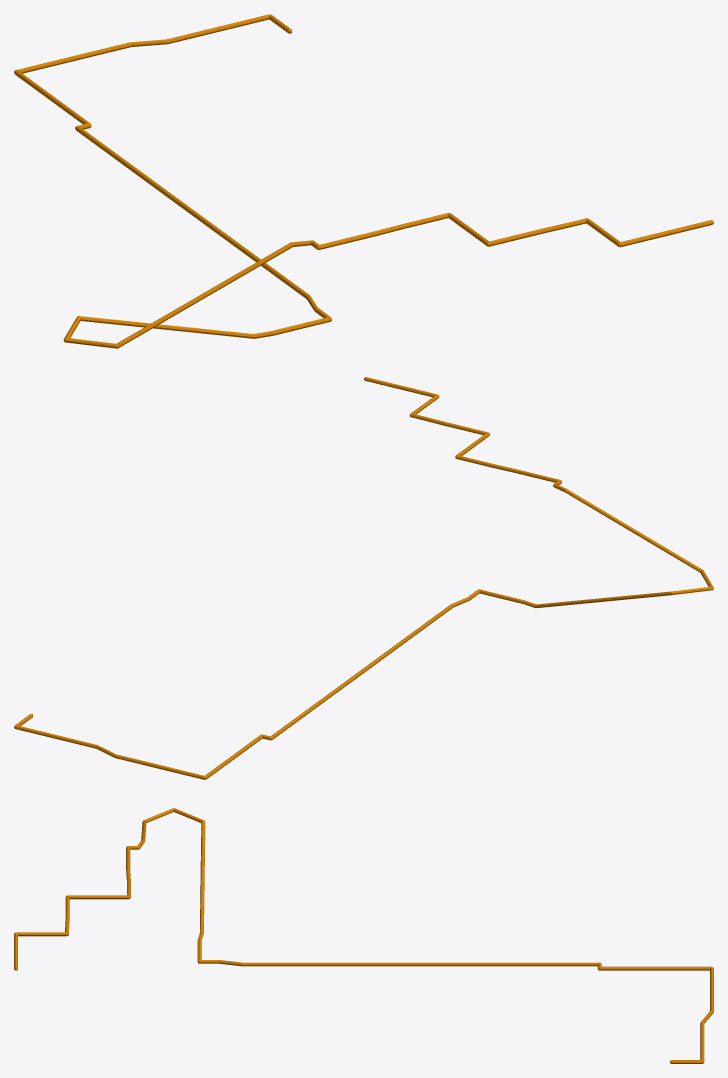
3 renders of one model, top to bottom at view 1: azimuth 30°, elevation 25°; view 2: azimuth 150°, elevation 25°; view 3: azimuth 270°, elevation 25°, orthographic. The views are drawn at different scales.
Bounding box in the file's own units: 2407 × 520 × 3430.
